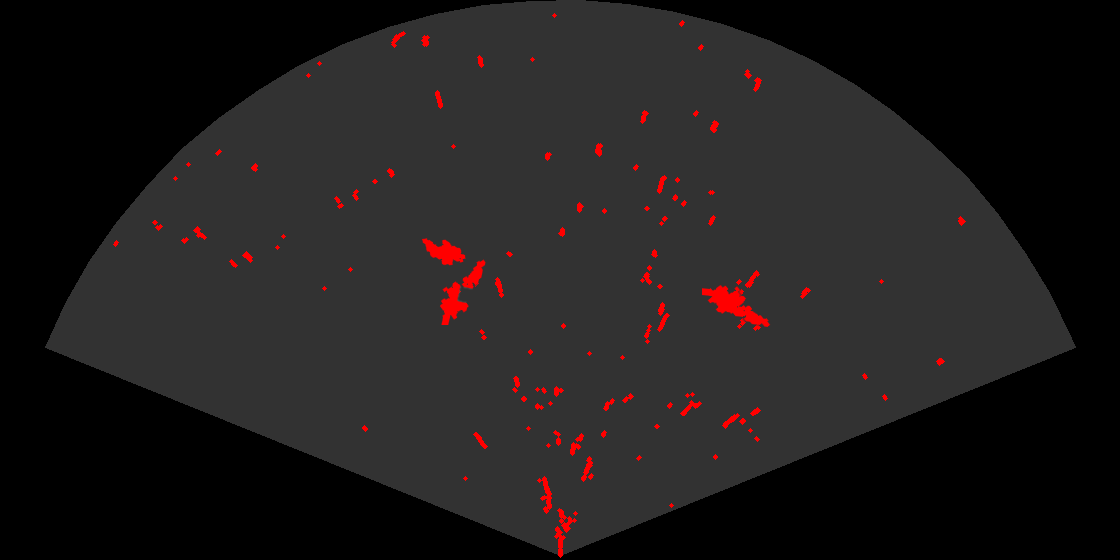AUV: (420, 237, 467, 267)
frogman: (438, 258, 487, 325), (702, 284, 772, 329)
